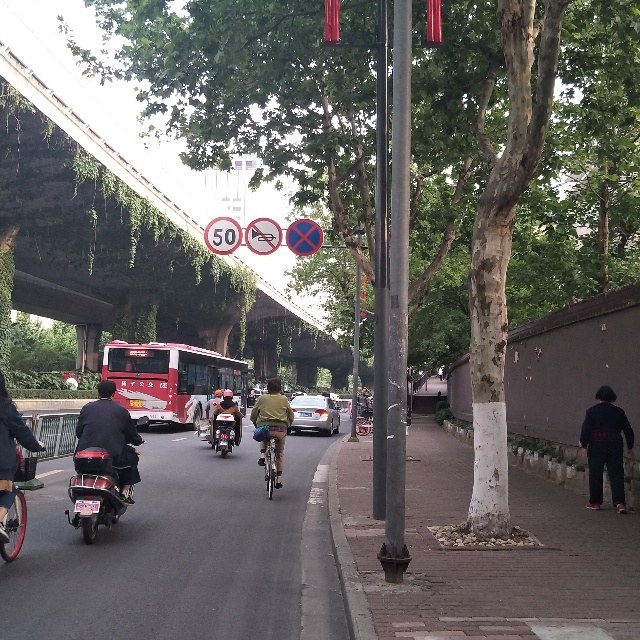nohonk: (249, 215, 280, 252)
stop: (292, 219, 321, 256)
